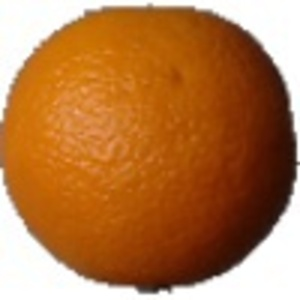laranja: (2, 4, 299, 295)
